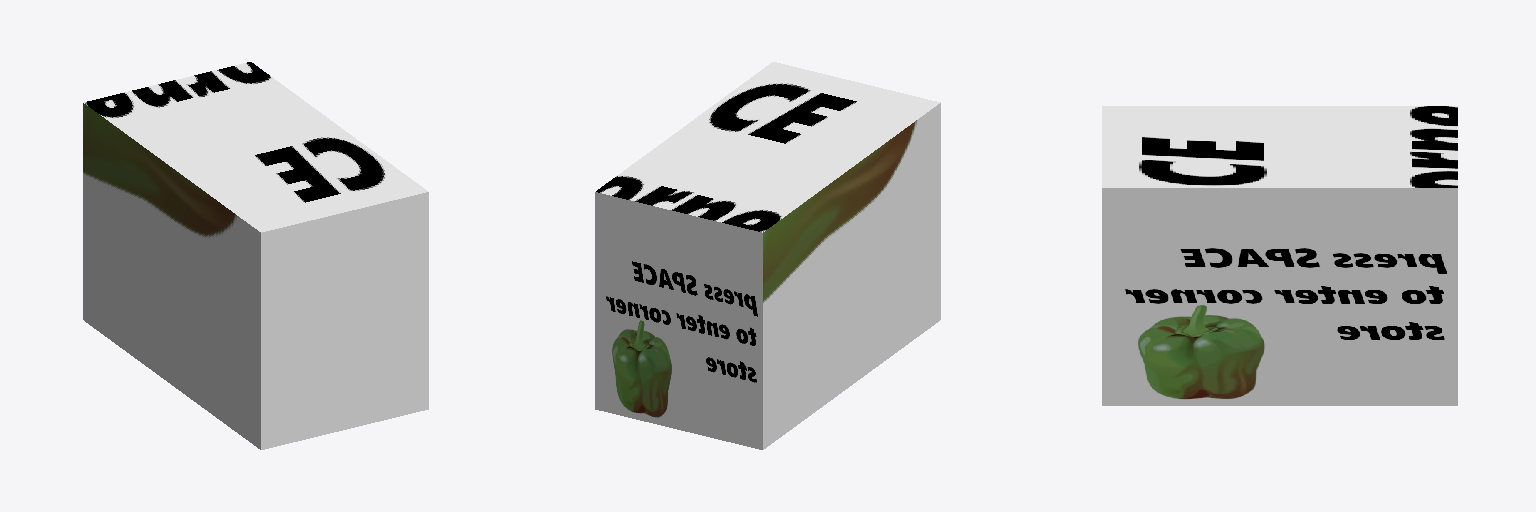
3 views of the same model, side by side, from view 1: azimuth 30°, elevation 25°; view 2: azimuth 150°, elevation 25°; view 3: azimuth 270°, elevation 25° (orthographic).
Visible parts, largest first — view 1: Cube; view 2: Cube; view 3: Cube.
Boxes of the visible parts, x1,y1,x2,y2 form: Cube: [83, 62, 428, 449]; Cube: [595, 62, 940, 449]; Cube: [1102, 106, 1457, 405].
Bounding box in the file's own units: 0.5447 × 0.6746 × 1.
1 materials, 1 textured.